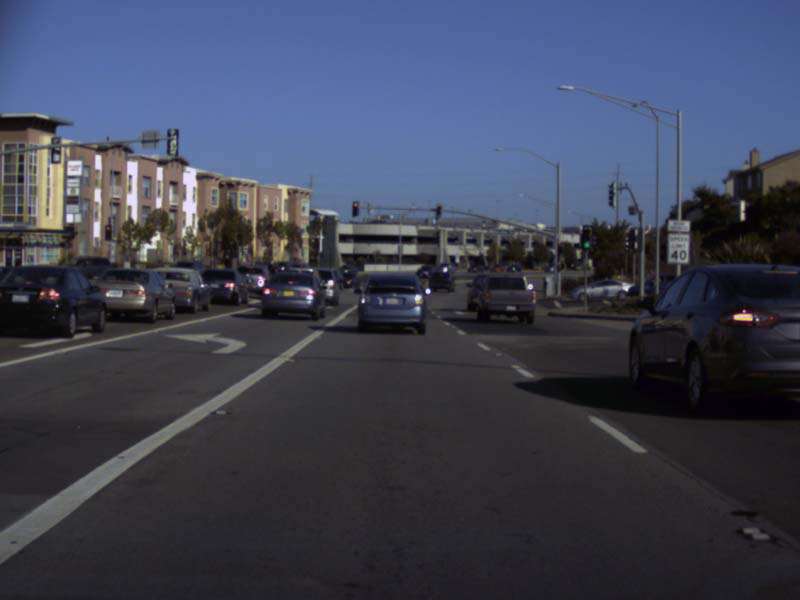Green: (581, 227, 592, 250), (435, 203, 441, 220)
Red: (351, 199, 360, 217)
